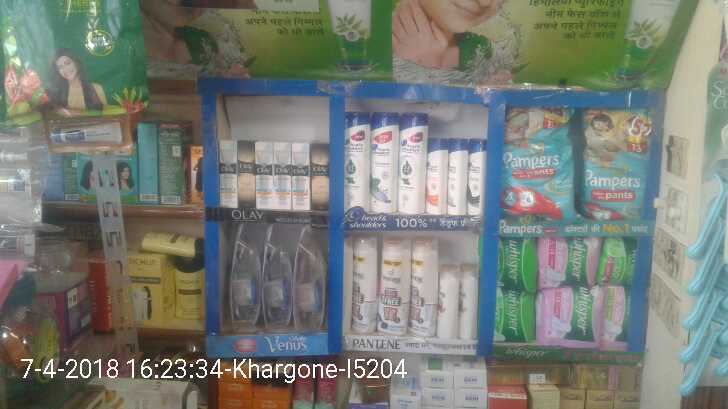venus: (223, 222, 261, 336), (260, 224, 294, 336), (297, 225, 322, 334)
